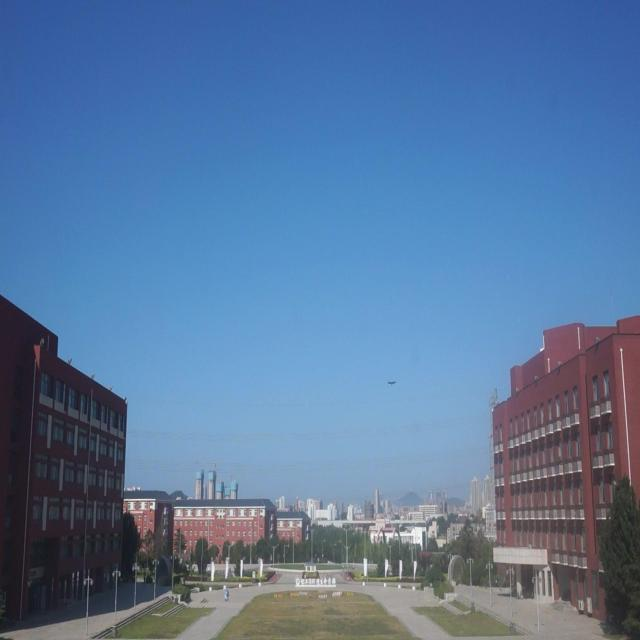drone: (386, 375, 398, 389)
